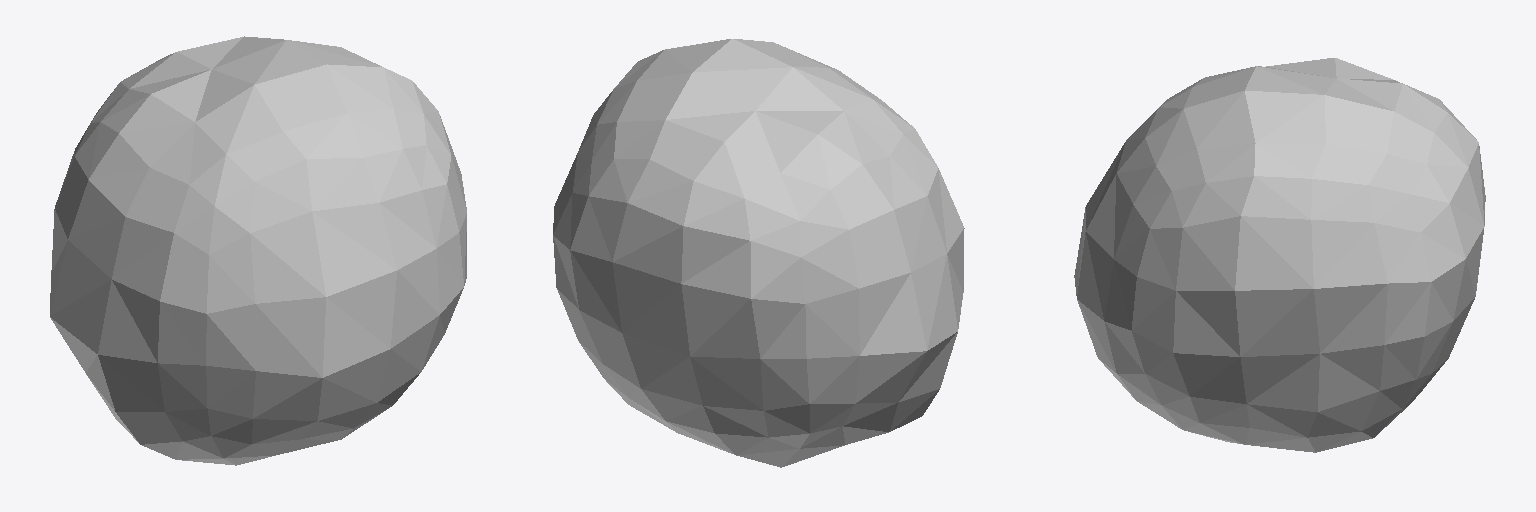
Rendered from rock3.obj.
The picture shows the model from 3 angles: view 1: azimuth 30°, elevation 25°; view 2: azimuth 150°, elevation 25°; view 3: azimuth 270°, elevation 25°; orthographic projection.
Parts seen in each view (by area): view 1: rock_d_05; view 2: rock_d_05; view 3: rock_d_05.
Part boxes in pixels (left/top/right/bottom): rock_d_05: left=50, top=36, right=466, bottom=465; rock_d_05: left=553, top=39, right=964, bottom=467; rock_d_05: left=1074, top=58, right=1485, bottom=452.
Bounding box in the file's own units: 2.46 × 2.46 × 2.39.